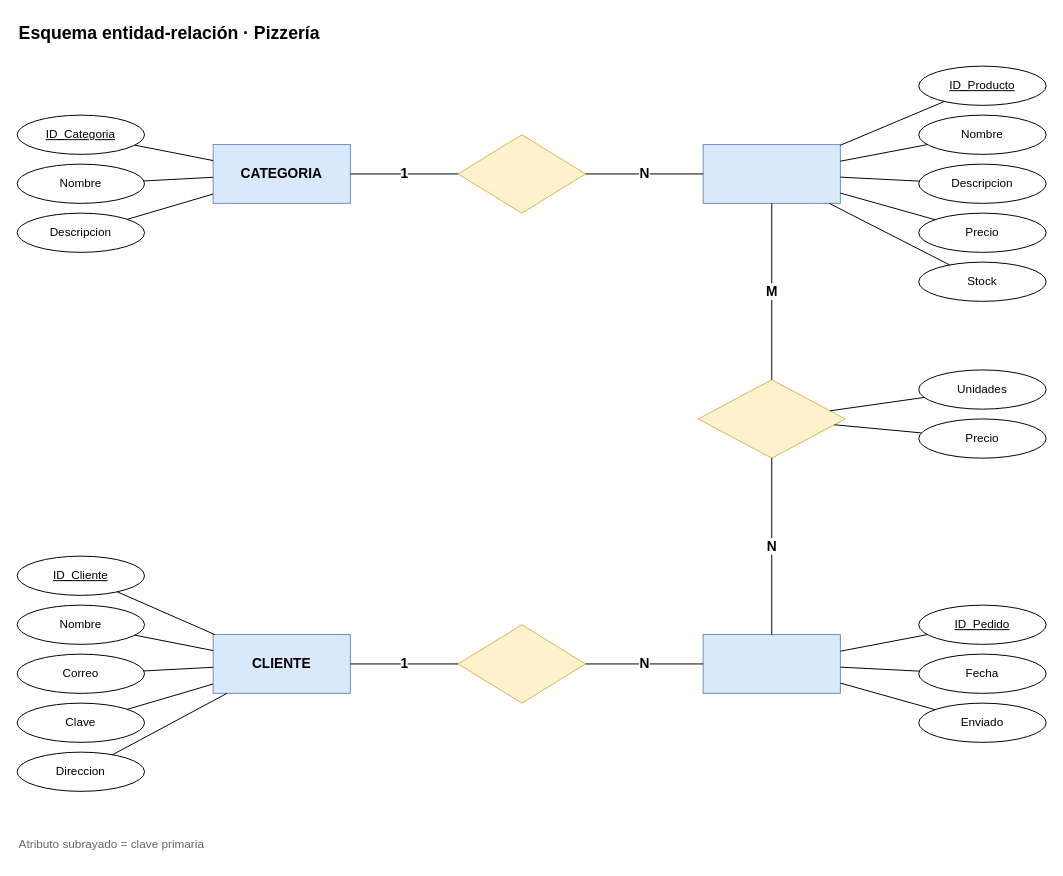
Image size: 1063x876. Some labels were removed from this diagram. Each missing label, with the centre of its shape:
Incluye: the point at 771,418
PEDIDO: the point at 771,663
Pertenece: the point at 521,173
PRODUCTO: the point at 771,173
Realiza: the point at 521,663
